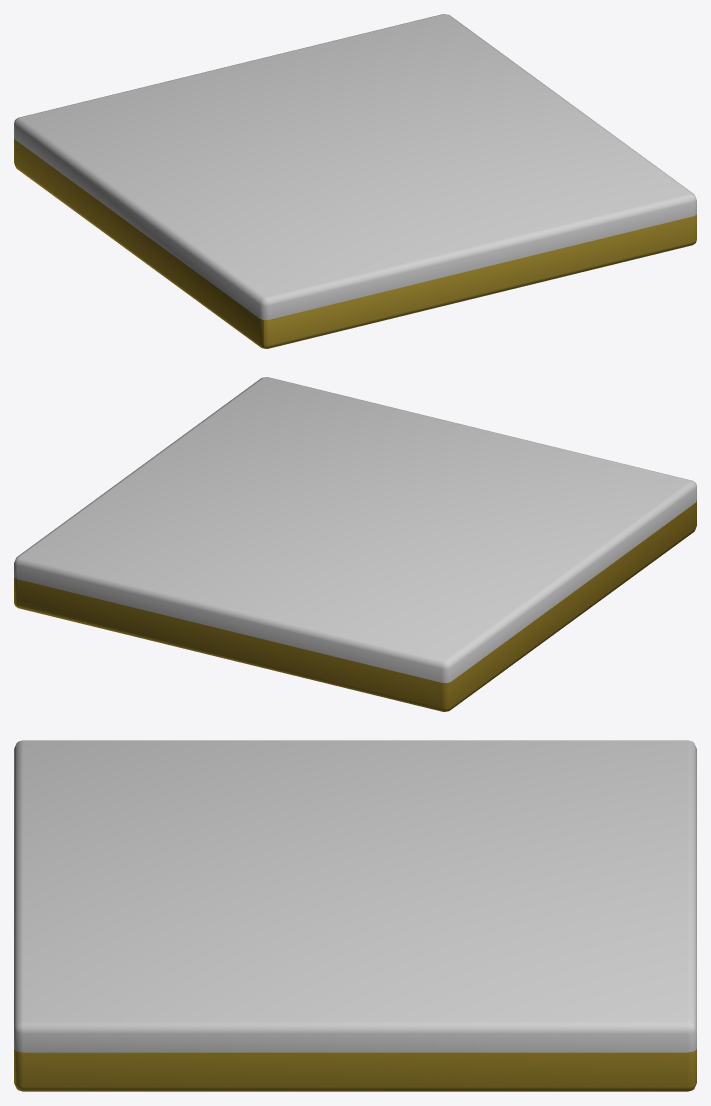
File: TexturecartoonGround.fbx
3 views of the same model, one above another, from view 1: azimuth 30°, elevation 25°; view 2: azimuth 150°, elevation 25°; view 3: azimuth 270°, elevation 25° (orthographic). The views are drawn at different scales.
Parts seen in each view (by area): view 1: Cube.001; view 2: Cube.001; view 3: Cube.001.
Part boxes in pixels (box(x1,y1,x2,y2)): Cube.001: box(14, 14, 696, 348); Cube.001: box(14, 377, 696, 711); Cube.001: box(14, 740, 696, 1091).
Size of the model in its own units: 1765 by 200 by 1765.
